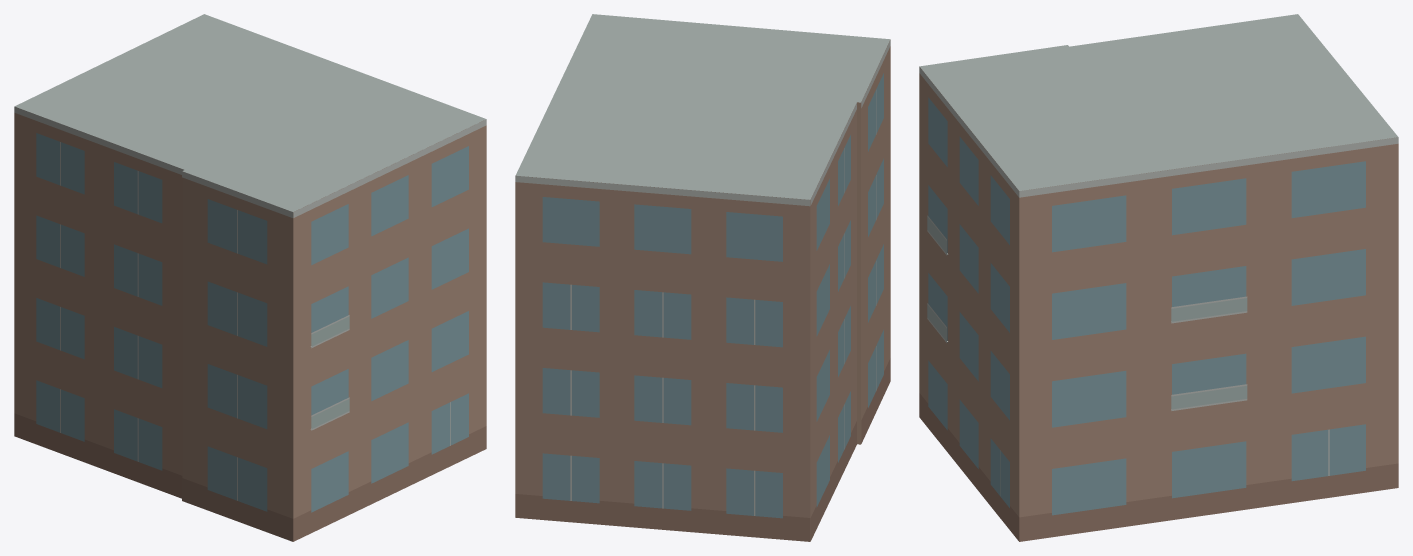
Rendered from survey-upis-32946623.glb.
3 renders of one model, left to right at view 1: azimuth 30°, elevation 25°; view 2: azimuth 150°, elevation 25°; view 3: azimuth 270°, elevation 25°, orthographic. The views are drawn at different scales.
Visible parts, largest first — view 1: survey-upis-32946623.tmp; view 2: survey-upis-32946623.tmp; view 3: survey-upis-32946623.tmp.
Part boxes in pixels (<box>): survey-upis-32946623.tmp: <box>14,14,486,541</box>; survey-upis-32946623.tmp: <box>515,14,890,541</box>; survey-upis-32946623.tmp: <box>919,14,1398,541</box>.
Size of the model in its own units: 14.16 by 13.06 by 16.18.
